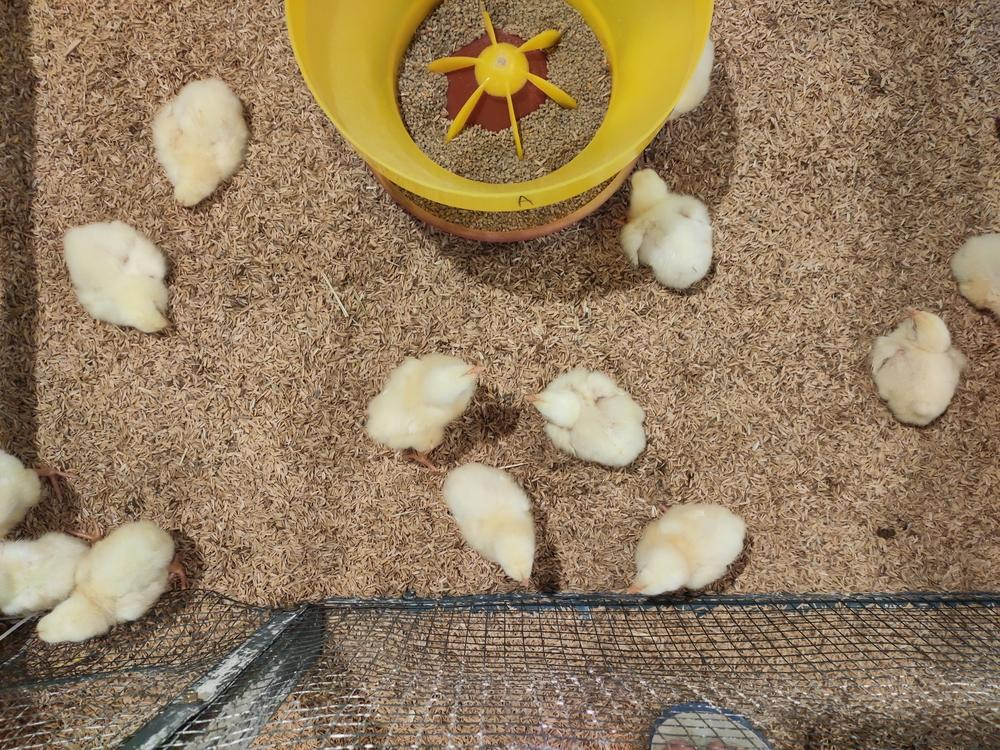Pollos: (34, 521, 185, 657), (62, 221, 177, 343), (357, 357, 486, 460), (442, 460, 542, 592), (524, 365, 653, 467), (622, 161, 718, 293), (626, 504, 748, 602), (155, 76, 246, 203), (872, 305, 968, 422)
